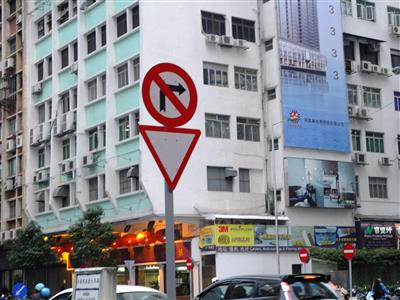keepLeft: (10, 281, 28, 298)
noEntry: (340, 241, 355, 259), (297, 247, 310, 262), (183, 256, 193, 269)
noRightTurn: (141, 61, 197, 128)
yield: (136, 122, 203, 192)
